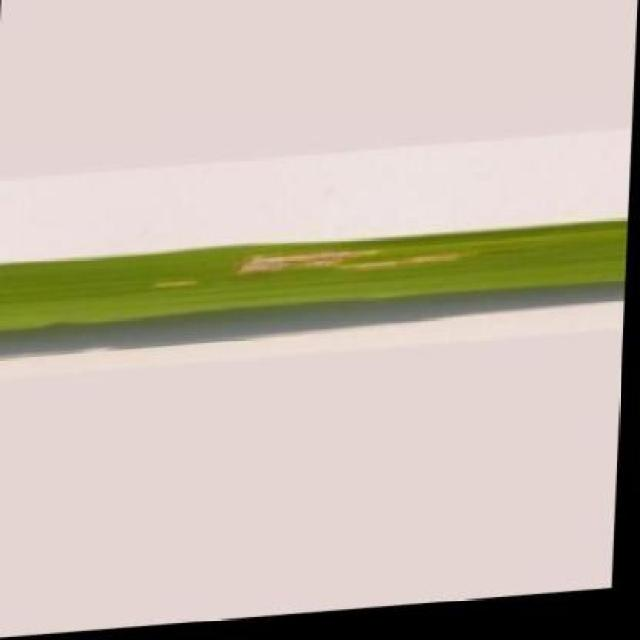Brown_Spot: (0, 216, 631, 339)
